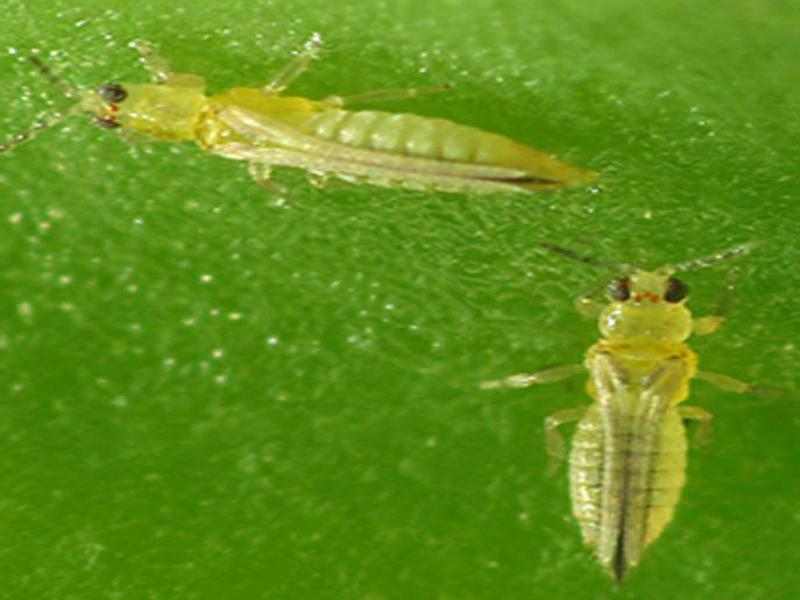Thrips: (68, 57, 605, 211), (537, 237, 718, 584)
